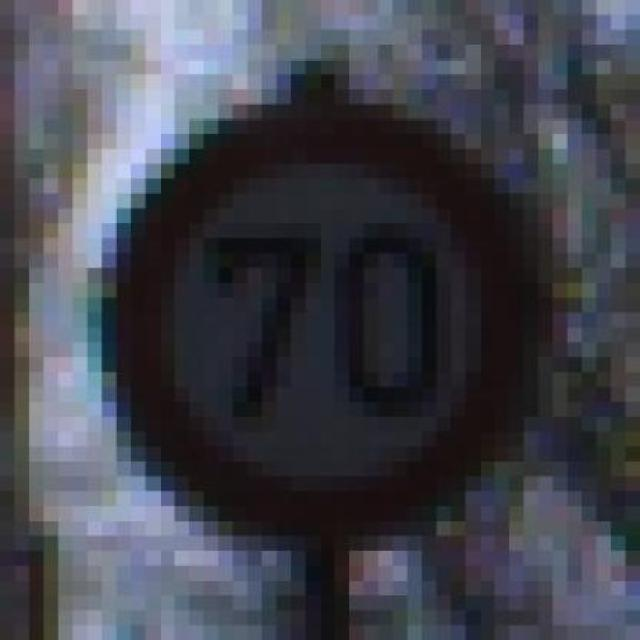forb_speed_over_70: (119, 111, 524, 534)
